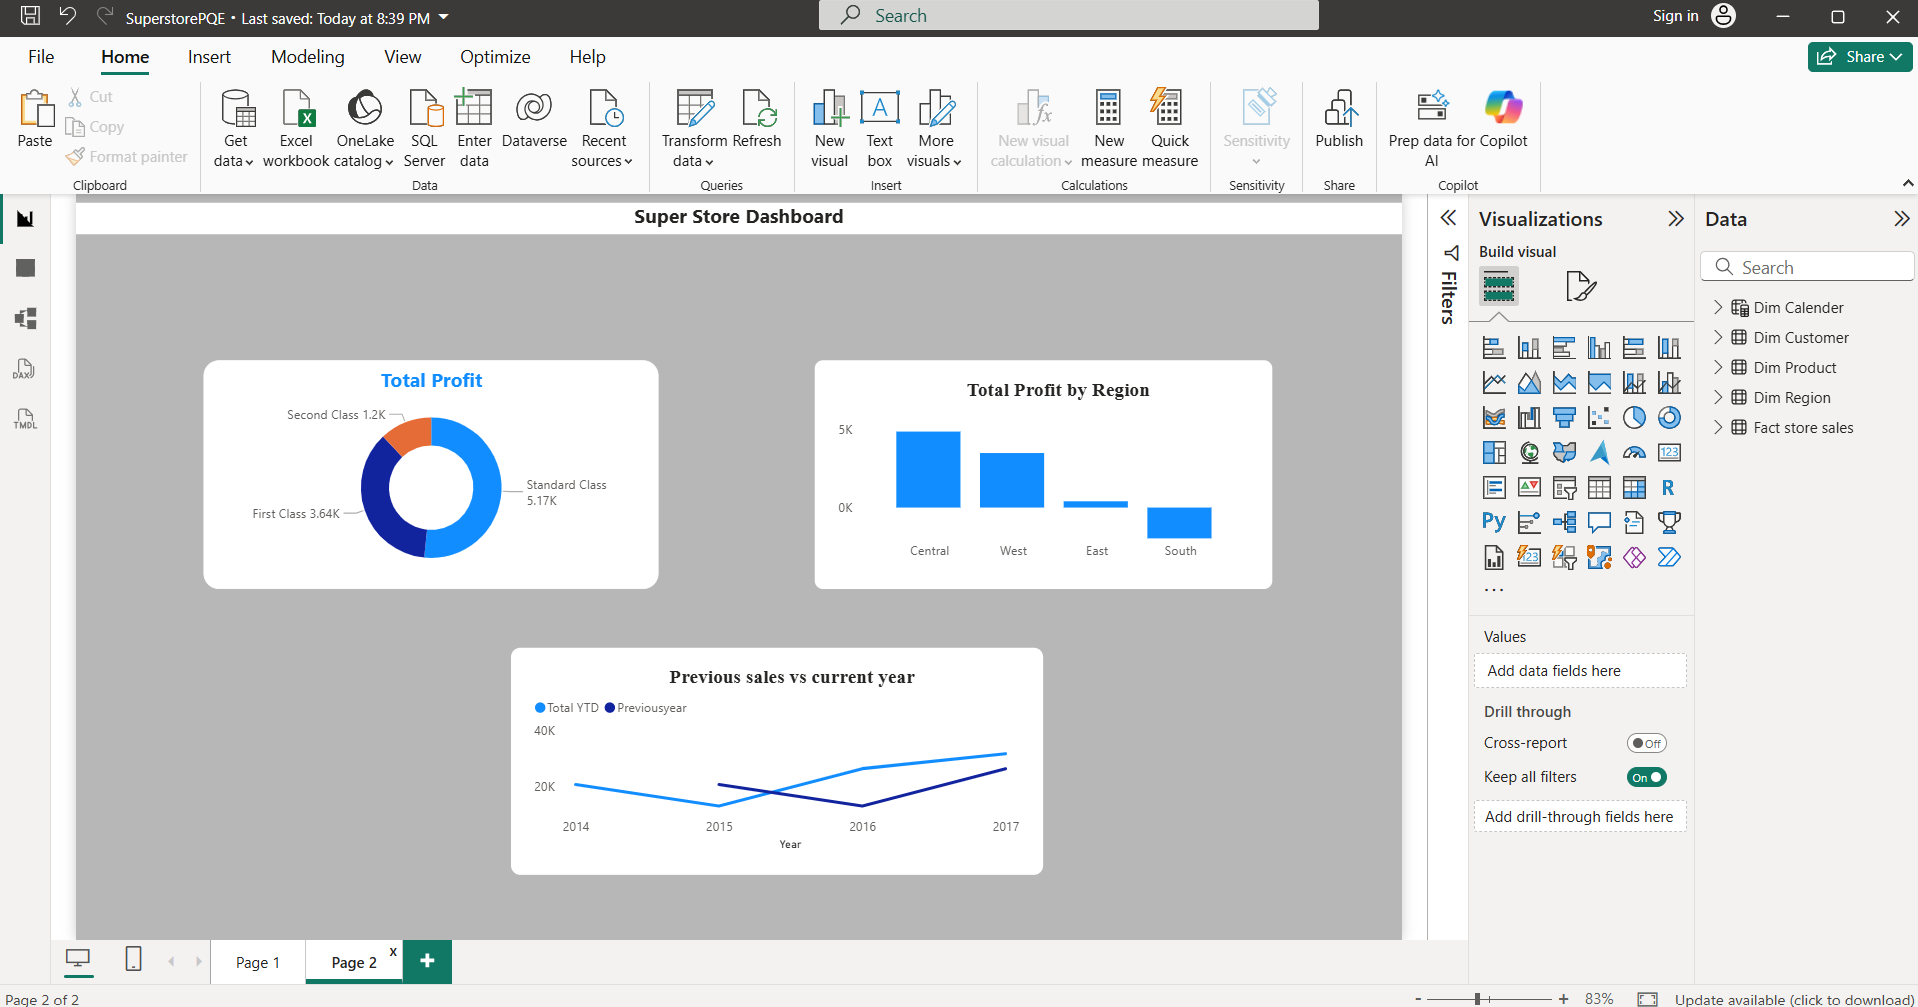

Layout of this report page (visuals, bound fields, positions):
{"tool":"powerbi","page":{"name":"Page 2","canvas":[1280,720],"ordinal":1},"visuals":[{"type":"lineChart","title":"Previous sales vs current year","fields":{"Category":["Dim Calender.Year"],"Y":["Fact store sales.Total YTD","Fact store sales.Previousyear"]},"box":[419.8,437.9,513.9,219.6],"z":0},{"type":"columnChart","fields":{"Category":["Dim Region.Region"],"Y":["Fact store sales.Total Profit"]},"box":[713,160.5,441.6,220.8],"z":1000},{"type":"textbox","title":"Super Store Dashboard","box":[0,8.8,1280,30],"z":2000},{"type":"donutChart","title":"Total Profit","fields":{"Category":["Fact store sales.Ship Mode"],"Y":["Fact store sales.Total Profit"]},"box":[123.1,160.5,439.1,220.8],"z":2001}]}

Visuals, with their boxes on the page's 1280x720 design canvas (x1, y1, x2, y2). These are canvas units, not pixel positions in the 1918x1007 screenshot, which may show the page scaled, cropped or inside an application window:
"Previous sales vs current year" lineChart: 420,438,934,658
columnChart - Dim Region.Region x Fact store sales.Total Profit: 713,160,1155,381
"Super Store Dashboard" textbox: 0,9,1280,39
"Total Profit" donutChart: 123,160,562,381
